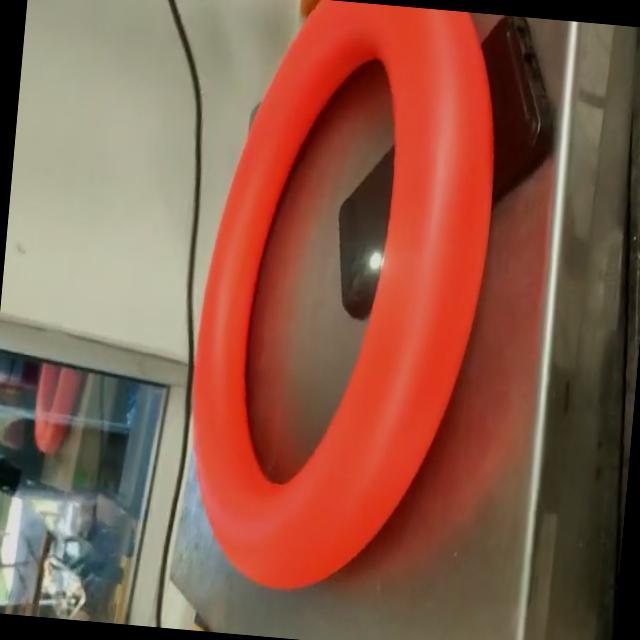note: (171, 0, 512, 605)
